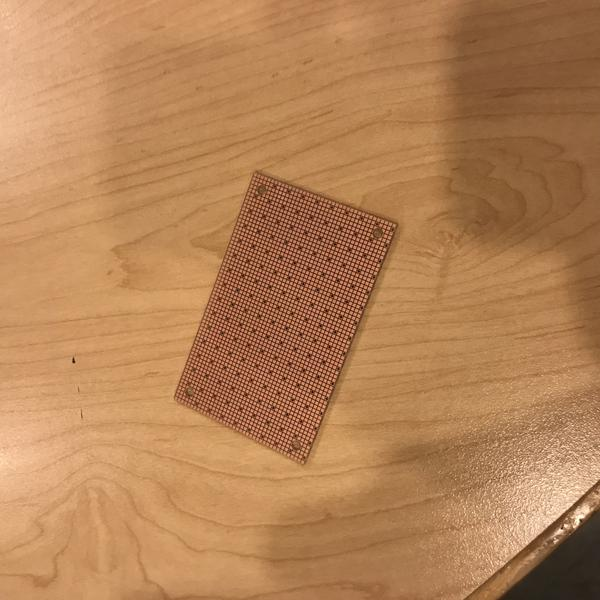board: (171, 170, 398, 466)
